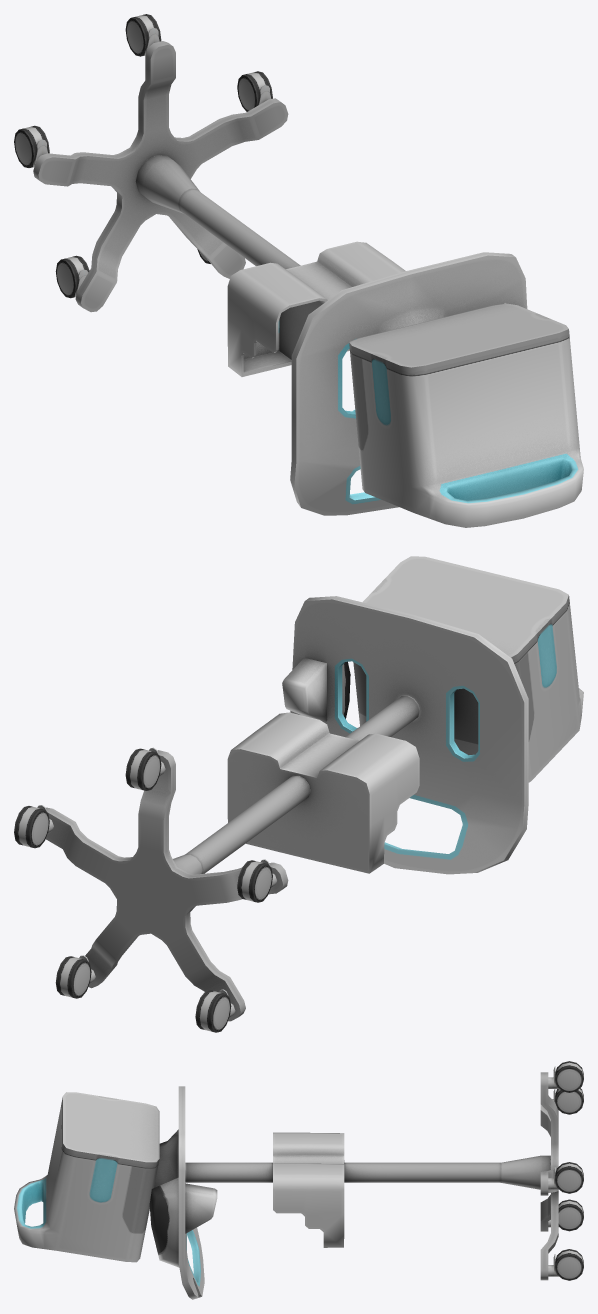
File: Cart_BP.obj
The picture shows the model from 3 angles, top to bottom: view 1: azimuth 30°, elevation 25°; view 2: azimuth 150°, elevation 25°; view 3: azimuth 270°, elevation 25°; orthographic projection. The views are drawn at different scales.
Visible parts, largest first — view 1: Cart_BP; view 2: Cart_BP; view 3: Cart_BP.
Boxes of the visible parts, <box> form: Cart_BP: <box>14,14,583,527</box>; Cart_BP: <box>14,556,583,1032</box>; Cart_BP: <box>14,1061,583,1299</box>.
Bounding box in the file's own units: 0.5907 × 0.6847 × 1.61.
Materials: 2 (2 with a texture image).
